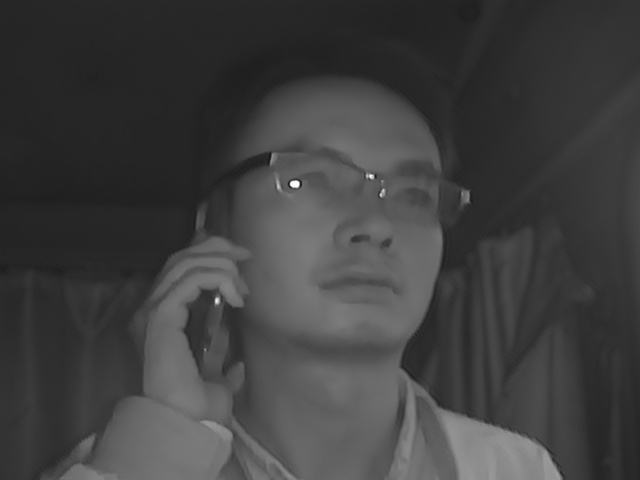hand: (122, 236, 253, 423)
